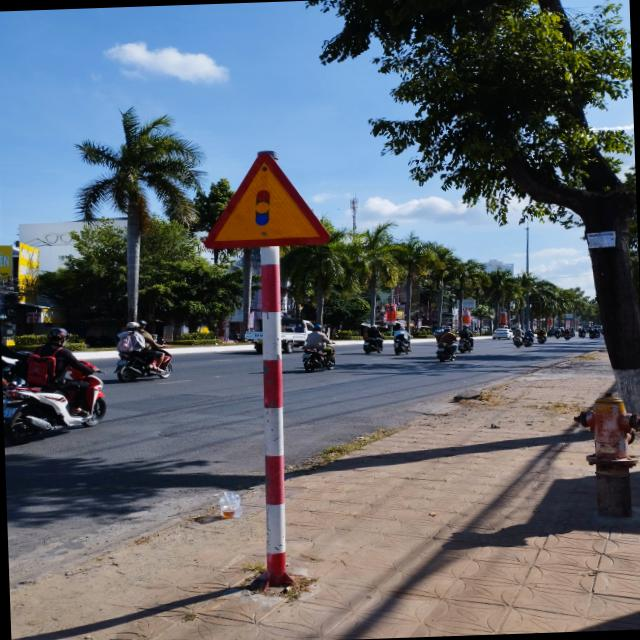Duong_Co_Go_Giam_Toc: (200, 148, 334, 251)
